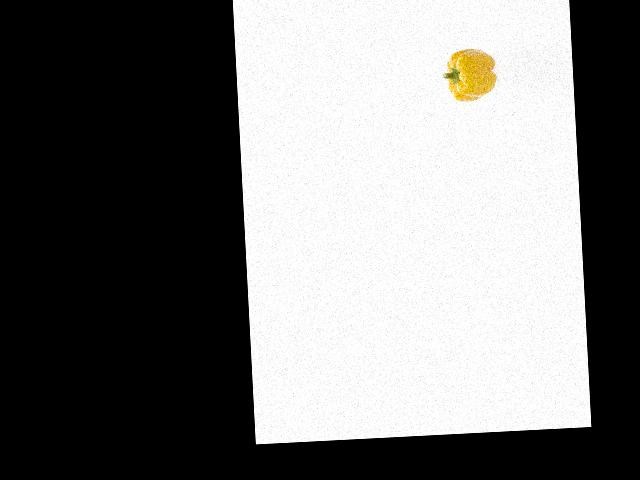bell_pepper: (440, 48, 498, 106)
